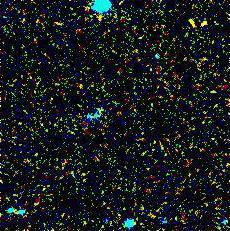star: (183, 7, 213, 37)
